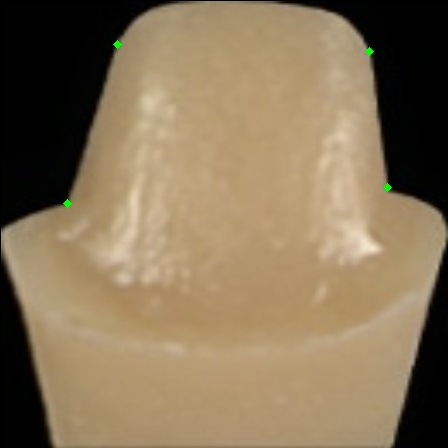coin_1: (387, 187, 407, 207)
coin_2: (369, 51, 389, 71)
coin_3: (67, 203, 87, 223)
coin_4: (117, 44, 137, 64)
